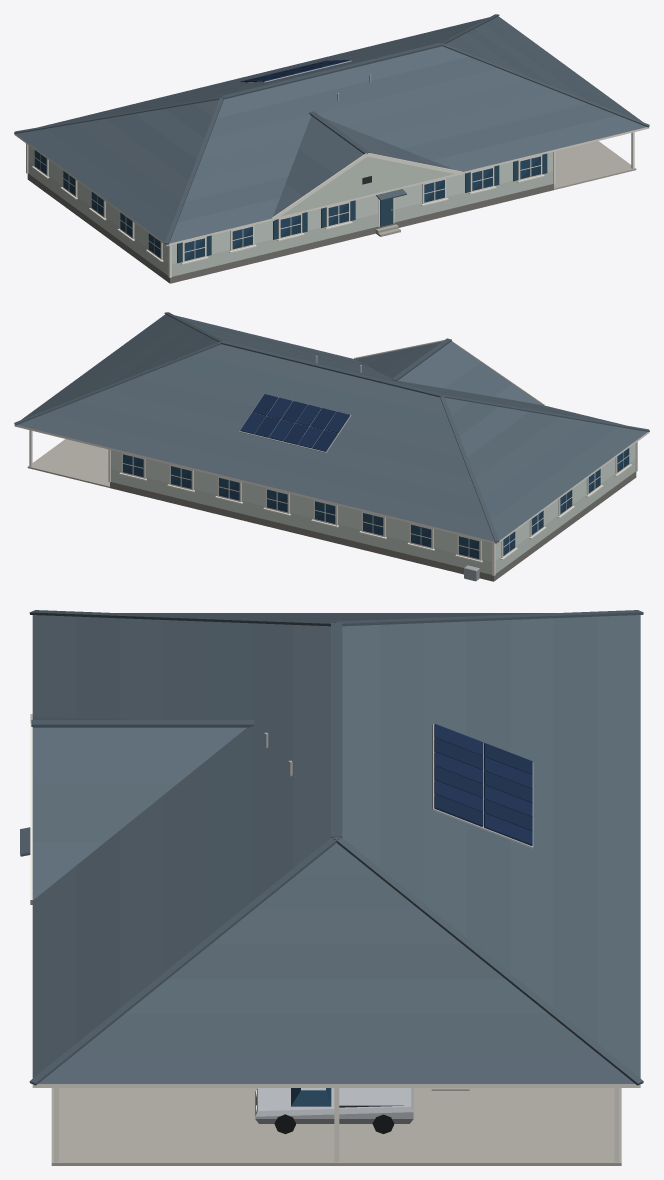
Rendered from house_34x18.glb.
3 renders of one model, top to bottom at view 1: azimuth 30°, elevation 25°; view 2: azimuth 150°, elevation 25°; view 3: azimuth 270°, elevation 25°, orthographic. The views are drawn at different scales.
Parts seen in each view (by area): view 1: house; view 2: house; view 3: house.
Boxes of the visible parts, box(x1,y1,x2,y2) form: house: box(14, 14, 649, 283); house: box(14, 312, 649, 581); house: box(20, 610, 643, 1165).
Size of the model in its own units: 35.4 by 7.28 by 19.7.
